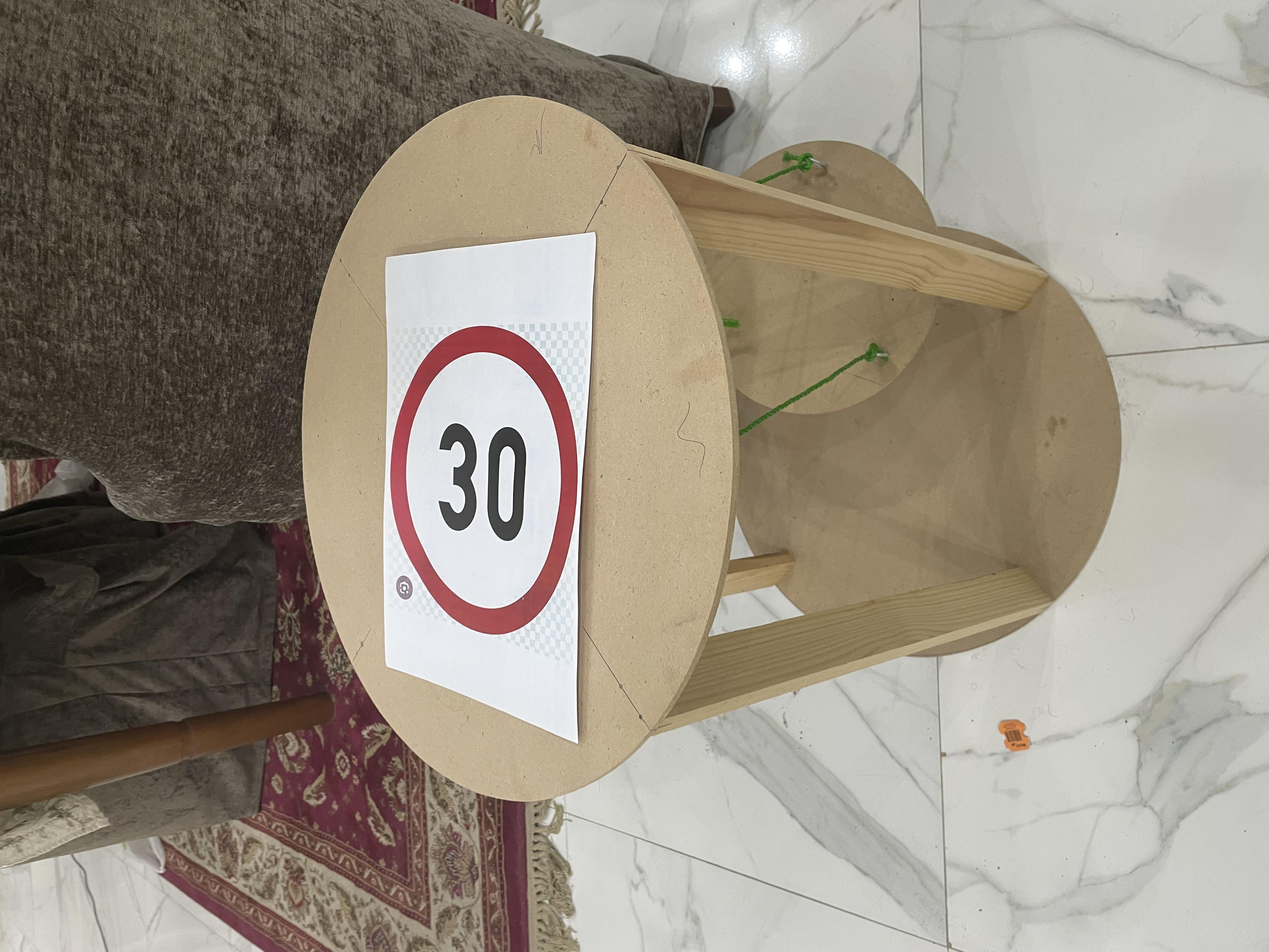30-speed: (415, 296, 853, 436)
